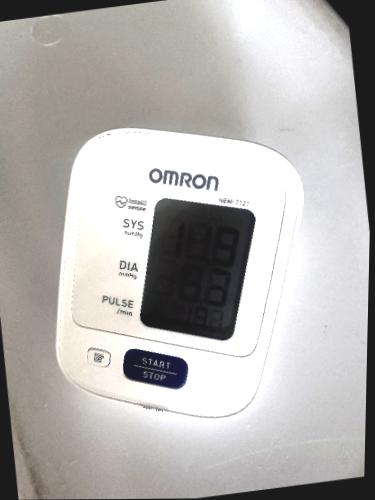bpm: (135, 196, 259, 347)
